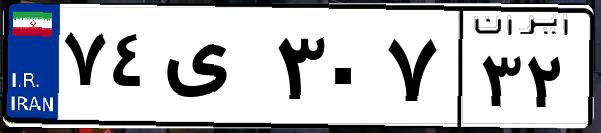0: (330, 28, 385, 110)
2: (525, 38, 570, 115)
3: (270, 28, 330, 110), (475, 38, 525, 113)
4: (110, 28, 158, 98)
7: (385, 28, 445, 110), (57, 26, 110, 100)
ی: (158, 20, 270, 120)
